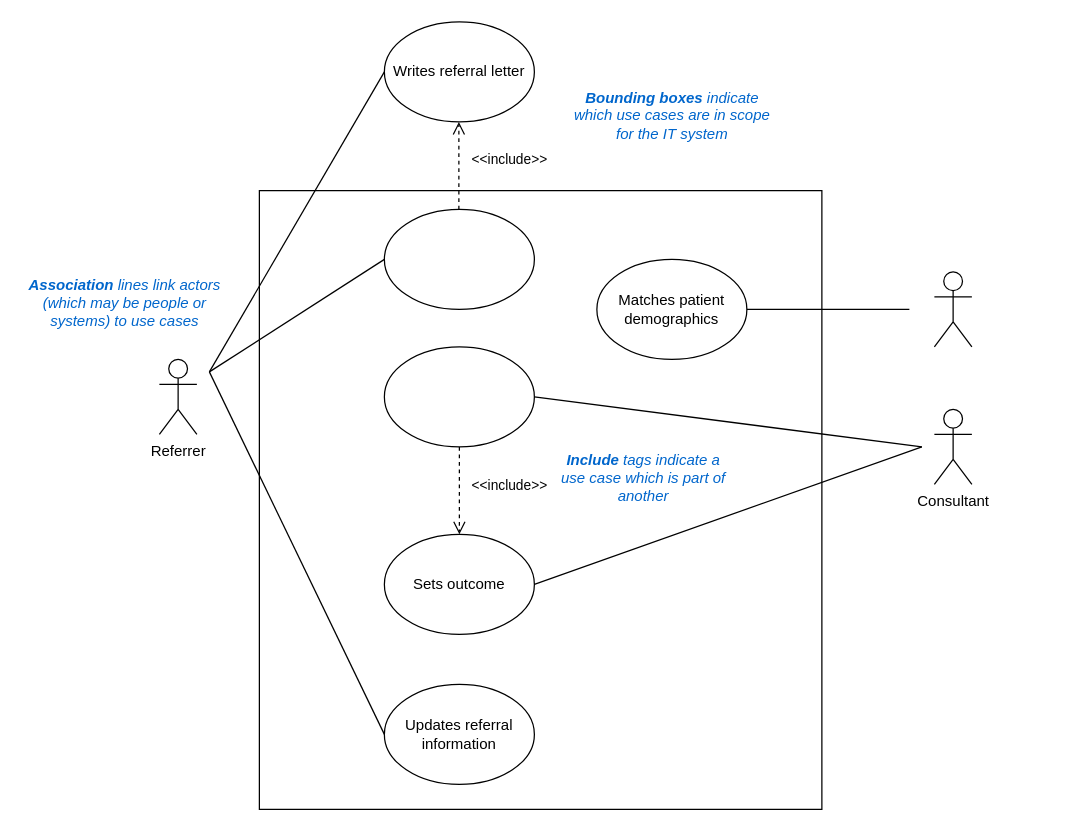
Some shapes in this 1074 by 831 pixel diagram are drawn without their labels. Here are the shapes that lost their labels. From the top down, the box of each, then its label:
(383, 208, 534, 309): Makes referral
(933, 271, 972, 347): Referral Management System
(383, 346, 534, 447): Traiges referral
